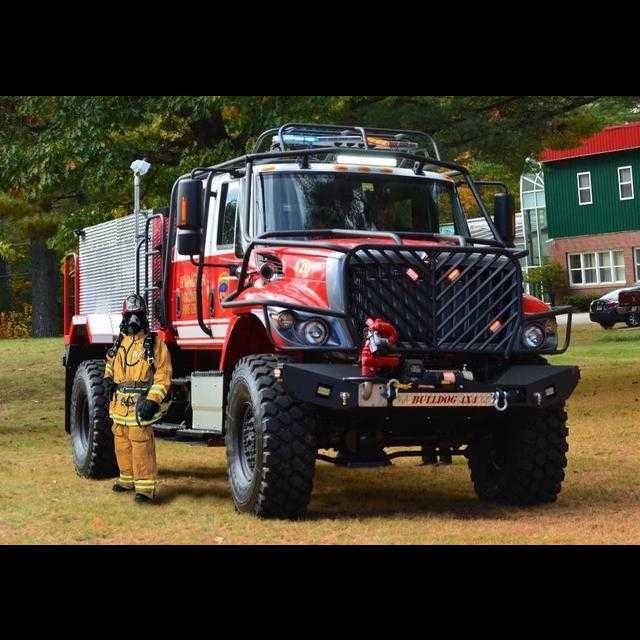emergency: (61, 123, 579, 517)
